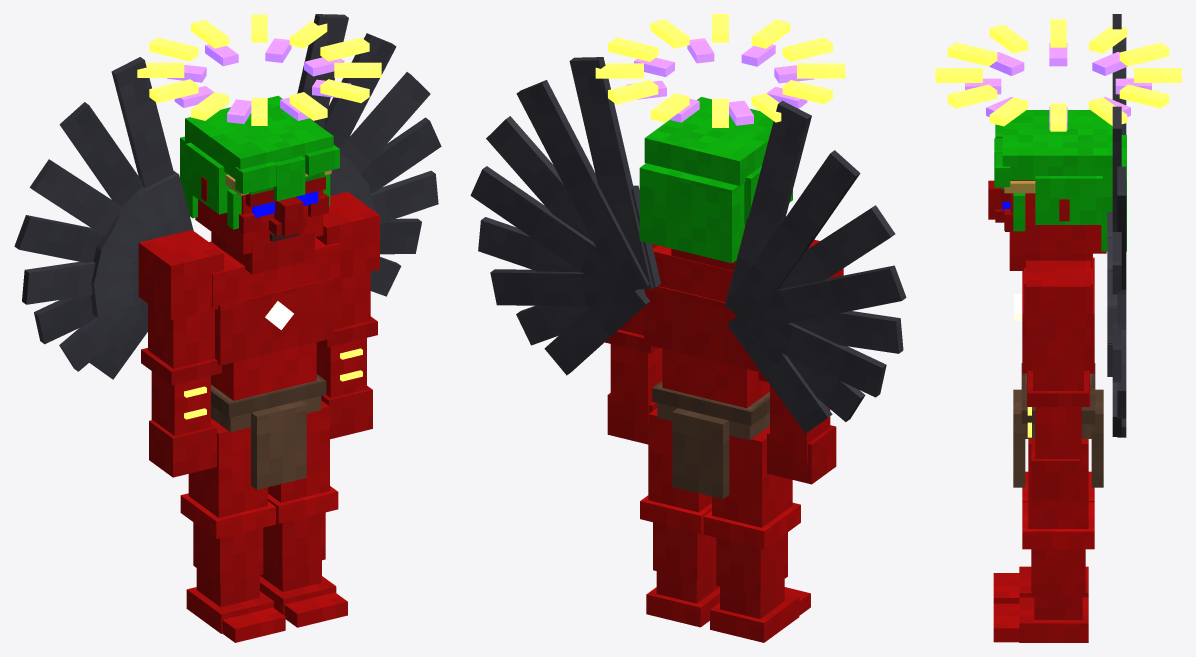
The model's file is angel_s2_evo2.glb.
3 views of the same model, side by side, from view 1: azimuth 30°, elevation 25°; view 2: azimuth 150°, elevation 25°; view 3: azimuth 270°, elevation 25° (orthographic). The views are drawn at different scales.
Visible parts, largest first — view 1: Torso, Head, ArmR, LegR, LegL, ArmL; view 2: Torso, Head, LegR, LegL, ArmL, ArmR; view 3: Head, ArmL, LegL, Torso, LegR.
Boxes of the visible parts, x1,y1,x2,y2 form: Torso: (14,14,441,489); Head: (137,14,381,274); ArmR: (138,229,223,477); LegR: (180,418,285,642); LegL: (260,400,347,627); ArmL: (315,191,379,439); Torso: (470,57,906,499); Head: (595,14,845,270); LegR: (703,426,810,642); LegL: (640,408,719,627); ArmL: (604,244,662,444); ArmR: (758,239,843,484); Head: (935,19,1181,270); ArmL: (1026,260,1090,500); LegL: (993,439,1094,642); Torso: (1013,14,1126,487); LegR: (993,471,1094,603).
Size of the model in its own units: 1.63 by 2.02 by 0.8184.
26 materials, 26 textured.
